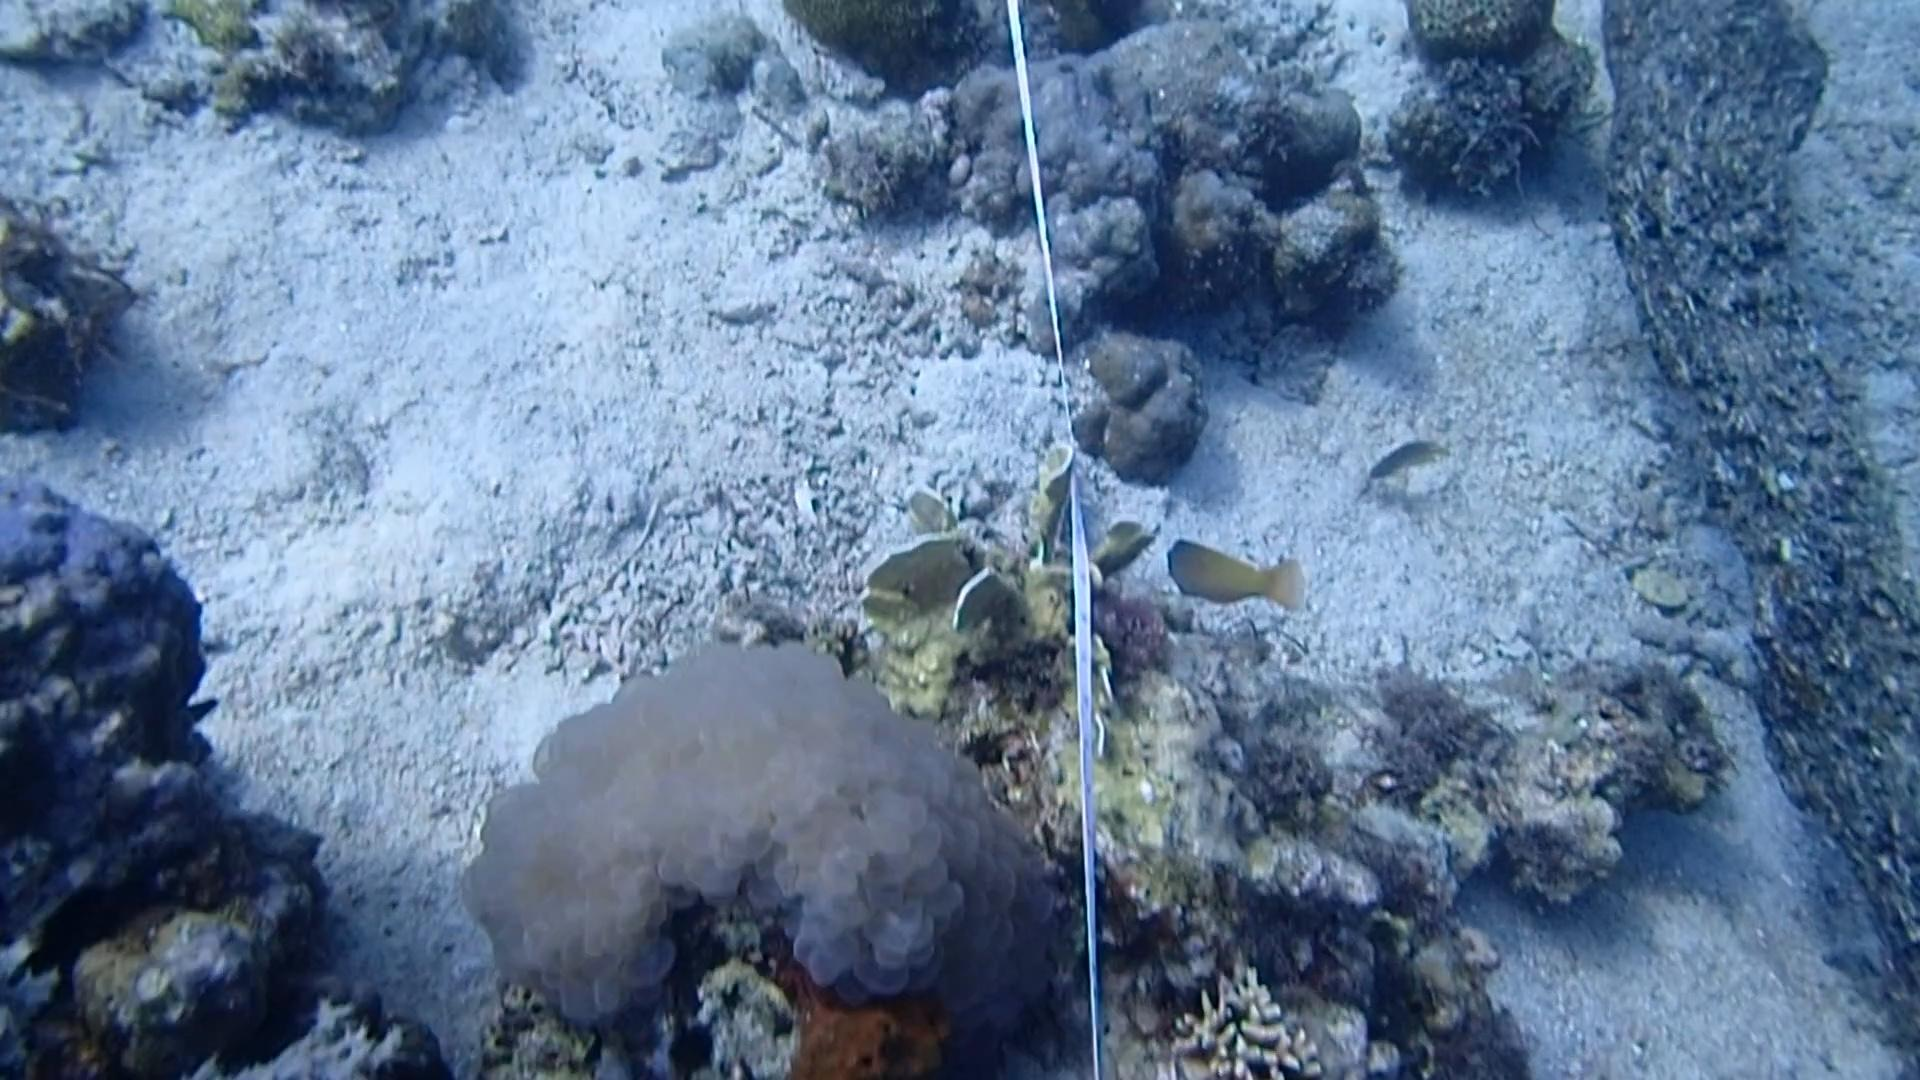Light Fish: (1348, 423, 1455, 498)
Yellow-Blue Fish: (1156, 526, 1311, 622)
